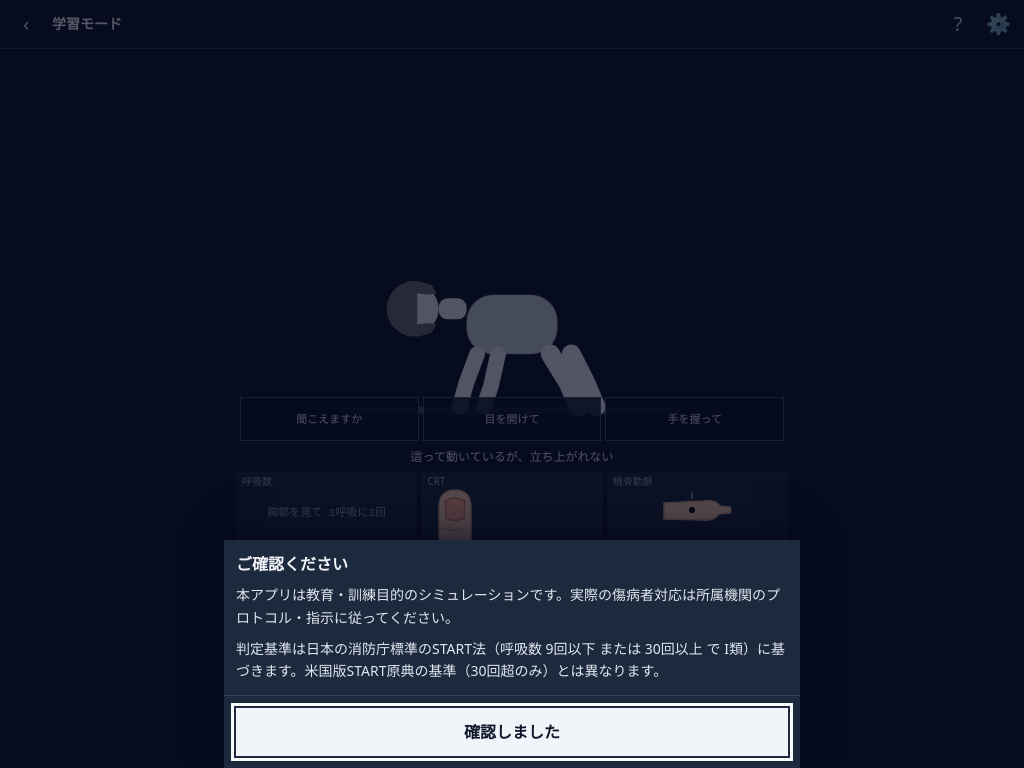
Scenario: 常時表示を減らす（SPEC §5.1） › 免責文は出題画面に常時表示しない
Click the button "確認しました". click: x=512, y=732
box: [236,708,788,756]
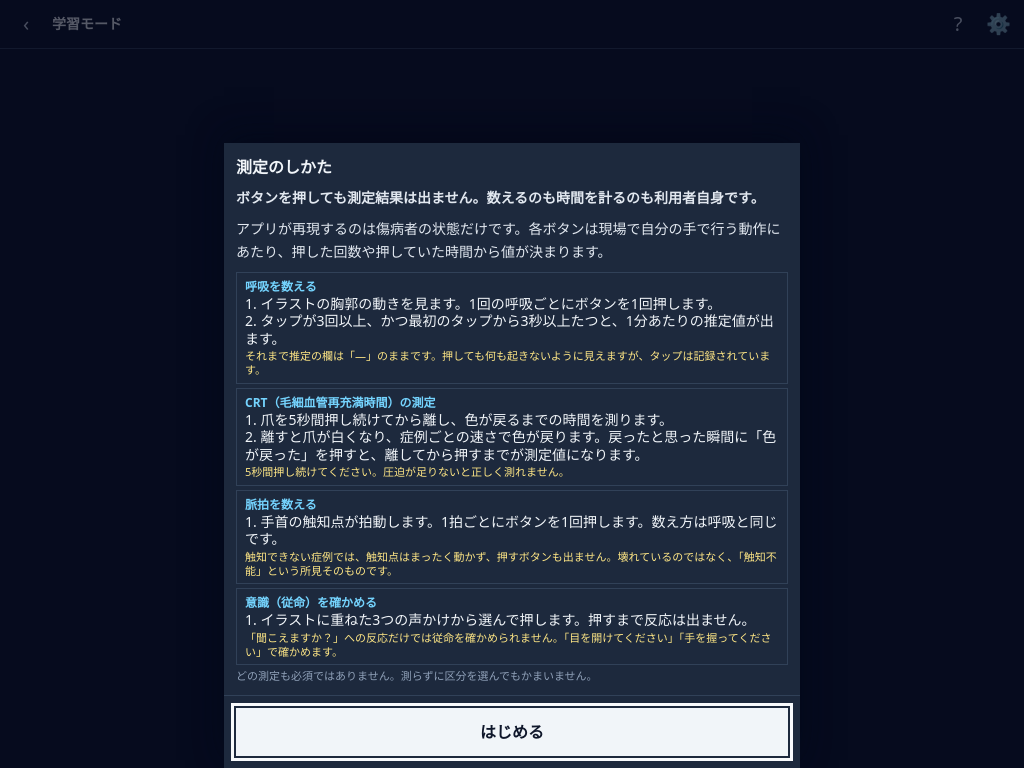
Result: the text "教育・訓練目的のシミュレーション" is gone
